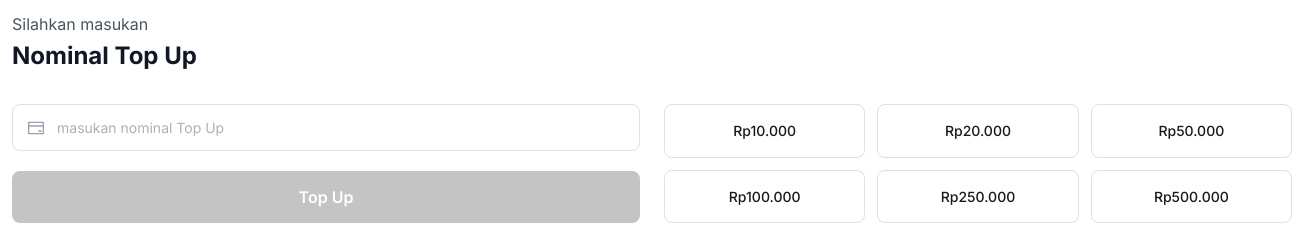
TopupPage › enables Top Up button when amount is entered
Type "10000" into the number field with placeholder "masukan nominal Top Up" at (326, 128), box [12,104,640,151]
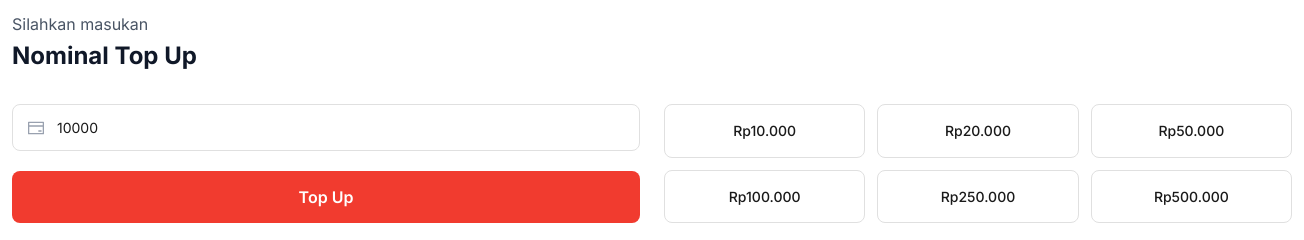
Expected: the button "Top Up" is enabled, [12,171,640,223]
